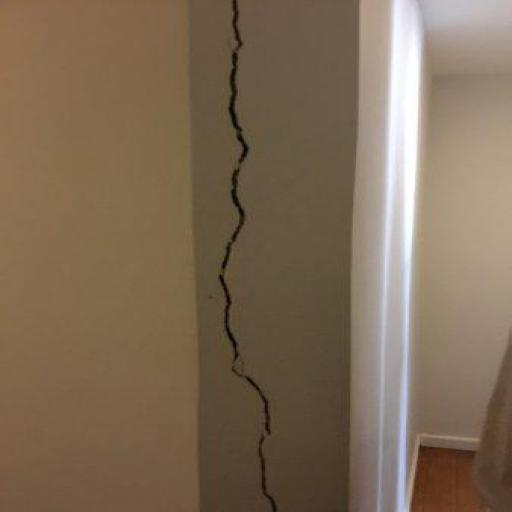spalling: (213, 1, 290, 512)
